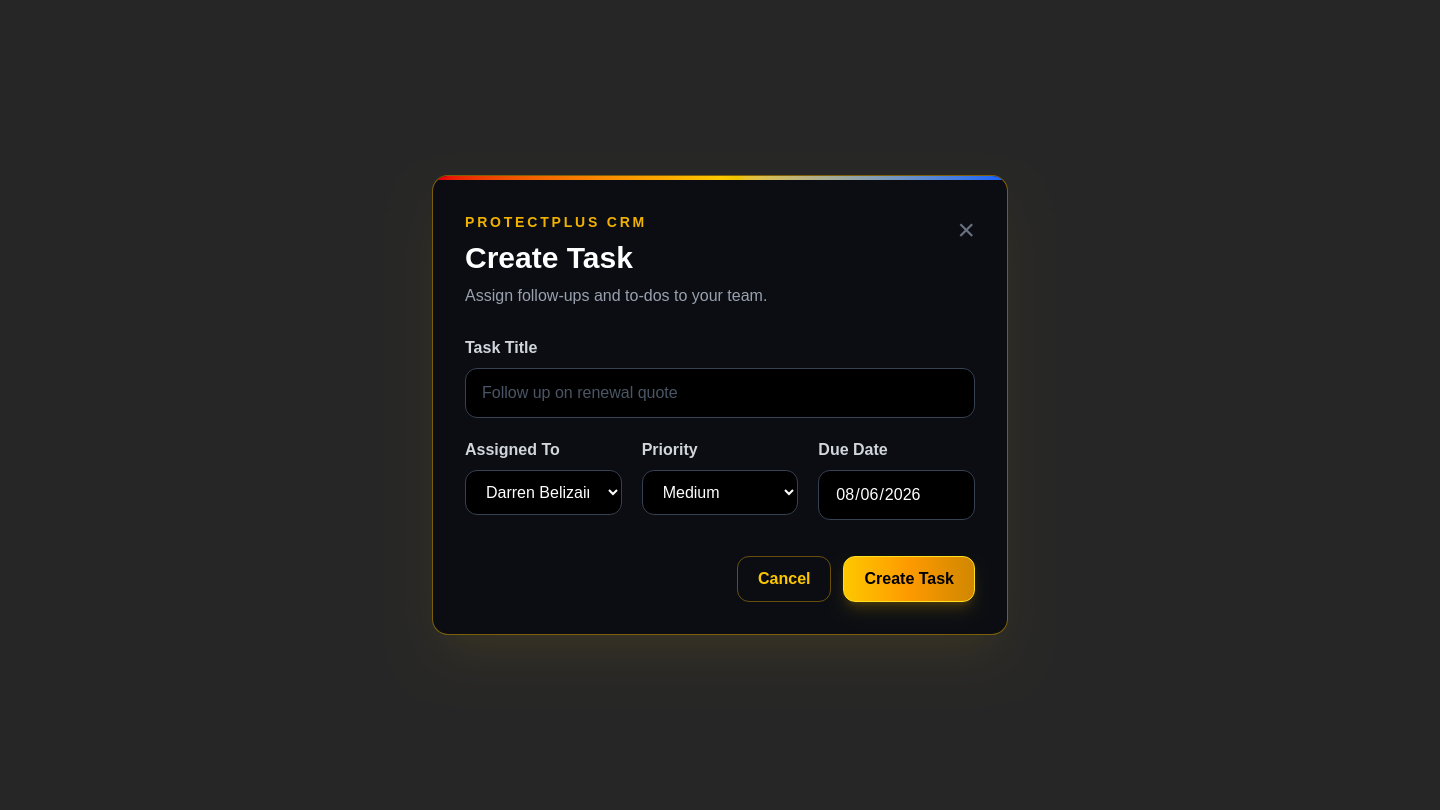
Test: TaskModal › clears the form when cancelled, so the next open starts blank
This screenshot has width=1440, height=810.
Type "Should Not Persist" into the field with placeholder "Follow up on renewal quote" at (720, 393), box [465,368,975,418]
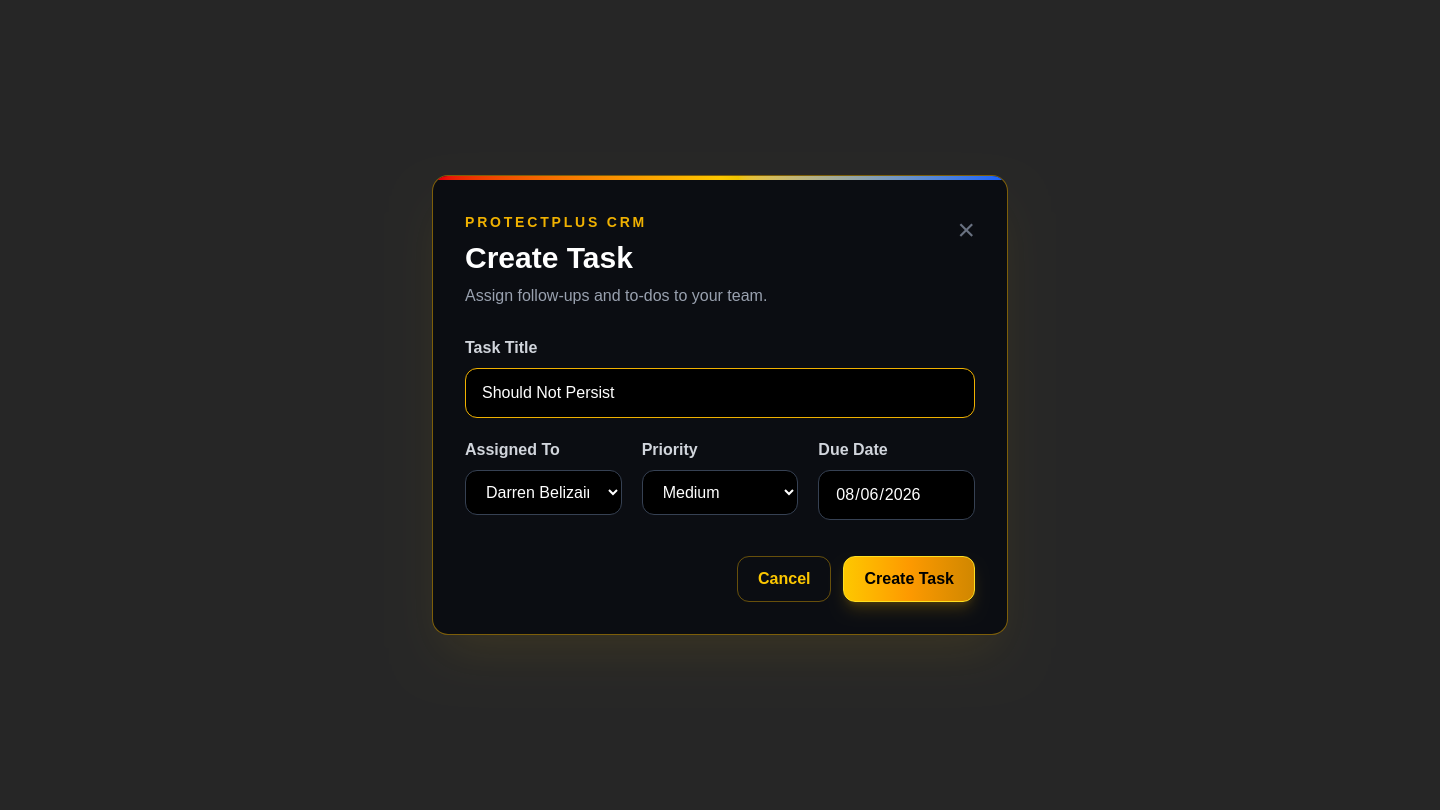
Click the button "Cancel" at (784, 579), box [737,556,832,602]
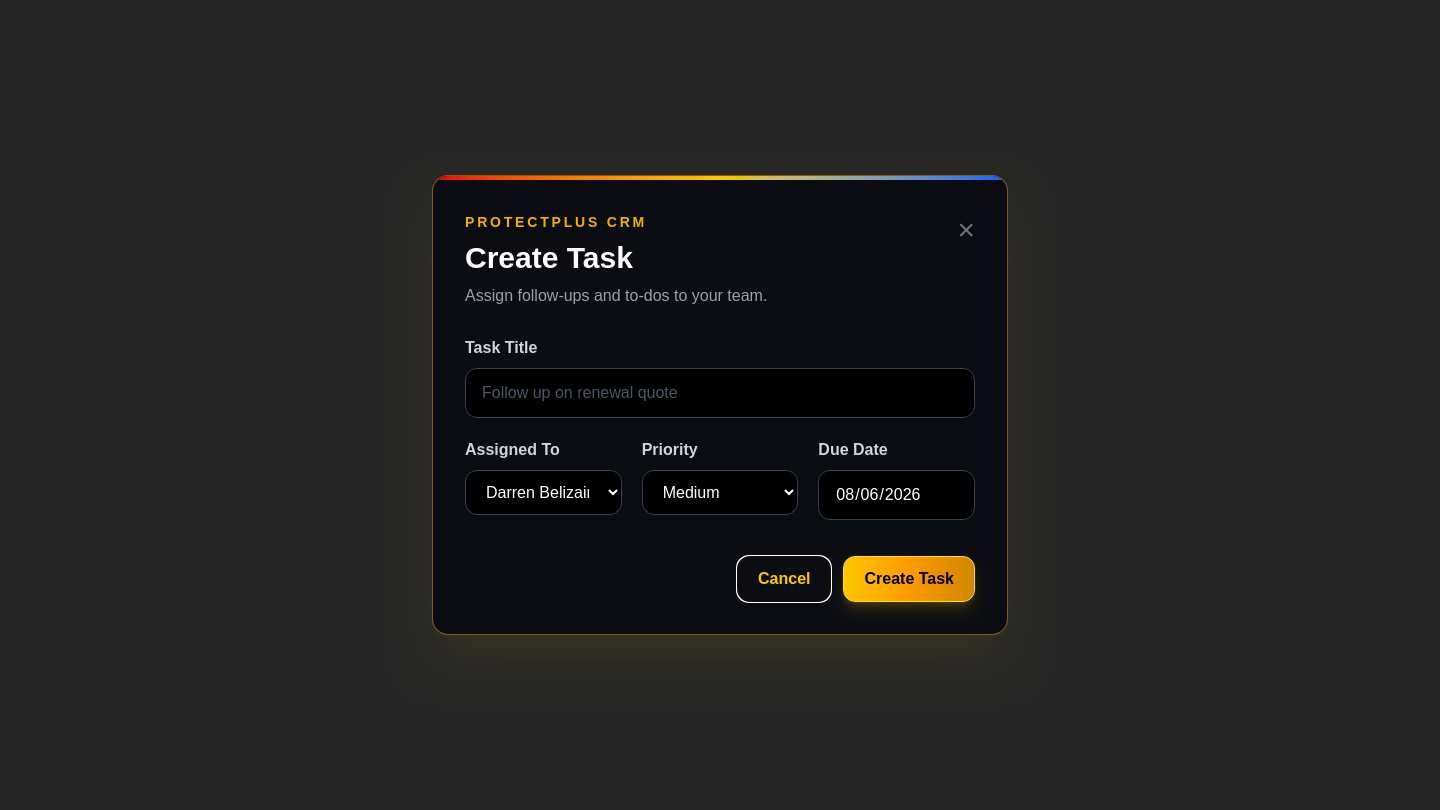
expect the field with placeholder "Follow up on renewal quote" is empty: met, box [465,368,975,418]
